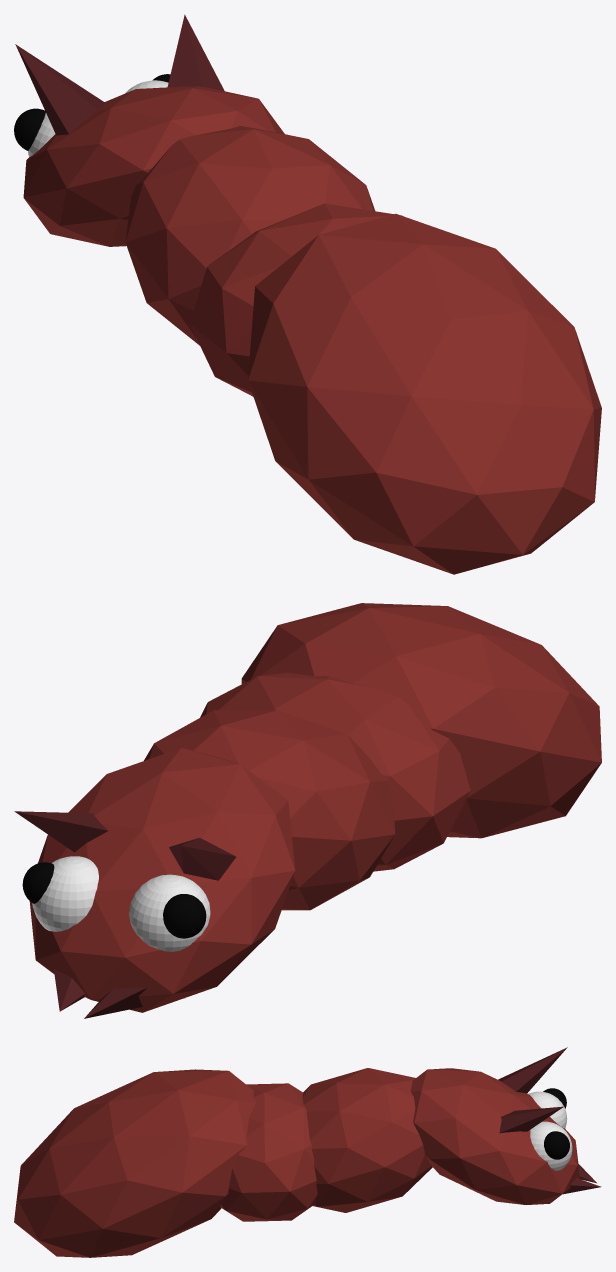
The model's file is AntyWarhol.fbx.
3 renders of one model, top to bottom at view 1: azimuth 30°, elevation 25°; view 2: azimuth 150°, elevation 25°; view 3: azimuth 270°, elevation 25°, orthographic. The views are drawn at different scales.
Parts seen in each view (by area): view 1: Icosphere.001, Icosphere.002, Icosphere.003, Icosphere, Cone.001, Cone, Sphere.003; view 2: Icosphere.001, Icosphere.003, Icosphere.002, Icosphere, Sphere, Sphere.001, Cone, Cone.001, Sphere.003, Cone.003, Sphere.002, Cone.002; view 3: Icosphere.001, Icosphere.003, Icosphere.002, Icosphere, Cone.001, Cone, Sphere, Sphere.001, Sphere.002.
Boxes of the visible parts, box(x1,y1,x2,y2) form: Icosphere.001: box(248, 213, 601, 574); Icosphere.002: box(125, 126, 375, 345); Icosphere.003: box(23, 86, 284, 246); Icosphere: box(190, 203, 402, 396); Cone.001: box(15, 44, 105, 135); Cone: box(167, 14, 224, 91); Sphere.003: box(14, 108, 45, 150); Icosphere.001: box(241, 603, 601, 838); Icosphere.003: box(29, 748, 295, 1012); Icosphere.002: box(144, 710, 395, 910); Icosphere: box(200, 672, 470, 871); Sphere: box(32, 856, 98, 931); Sphere.001: box(129, 874, 210, 951); Cone: box(14, 811, 108, 852); Cone.001: box(169, 837, 235, 880); Sphere.003: box(163, 894, 206, 938); Cone.003: box(84, 987, 147, 1018); Sphere.002: box(22, 862, 54, 903); Cone.002: box(53, 968, 84, 1011); Icosphere.001: box(14, 1069, 255, 1257); Icosphere.003: box(410, 1068, 580, 1204); Icosphere.002: box(302, 1068, 432, 1212); Icosphere: box(220, 1083, 317, 1221); Cone.001: box(498, 1047, 567, 1093); Cone: box(499, 1106, 563, 1133); Sphere: box(530, 1121, 572, 1170); Sphere.001: box(528, 1091, 567, 1128); Sphere.002: box(544, 1131, 569, 1159).
Bounding box in the file's own units: 231 × 195 × 609.
